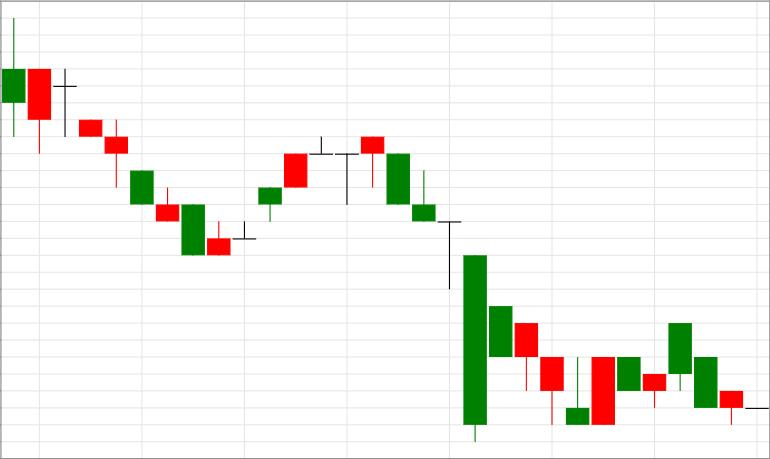bullish_engulfing_rise: (463, 255, 616, 442)
